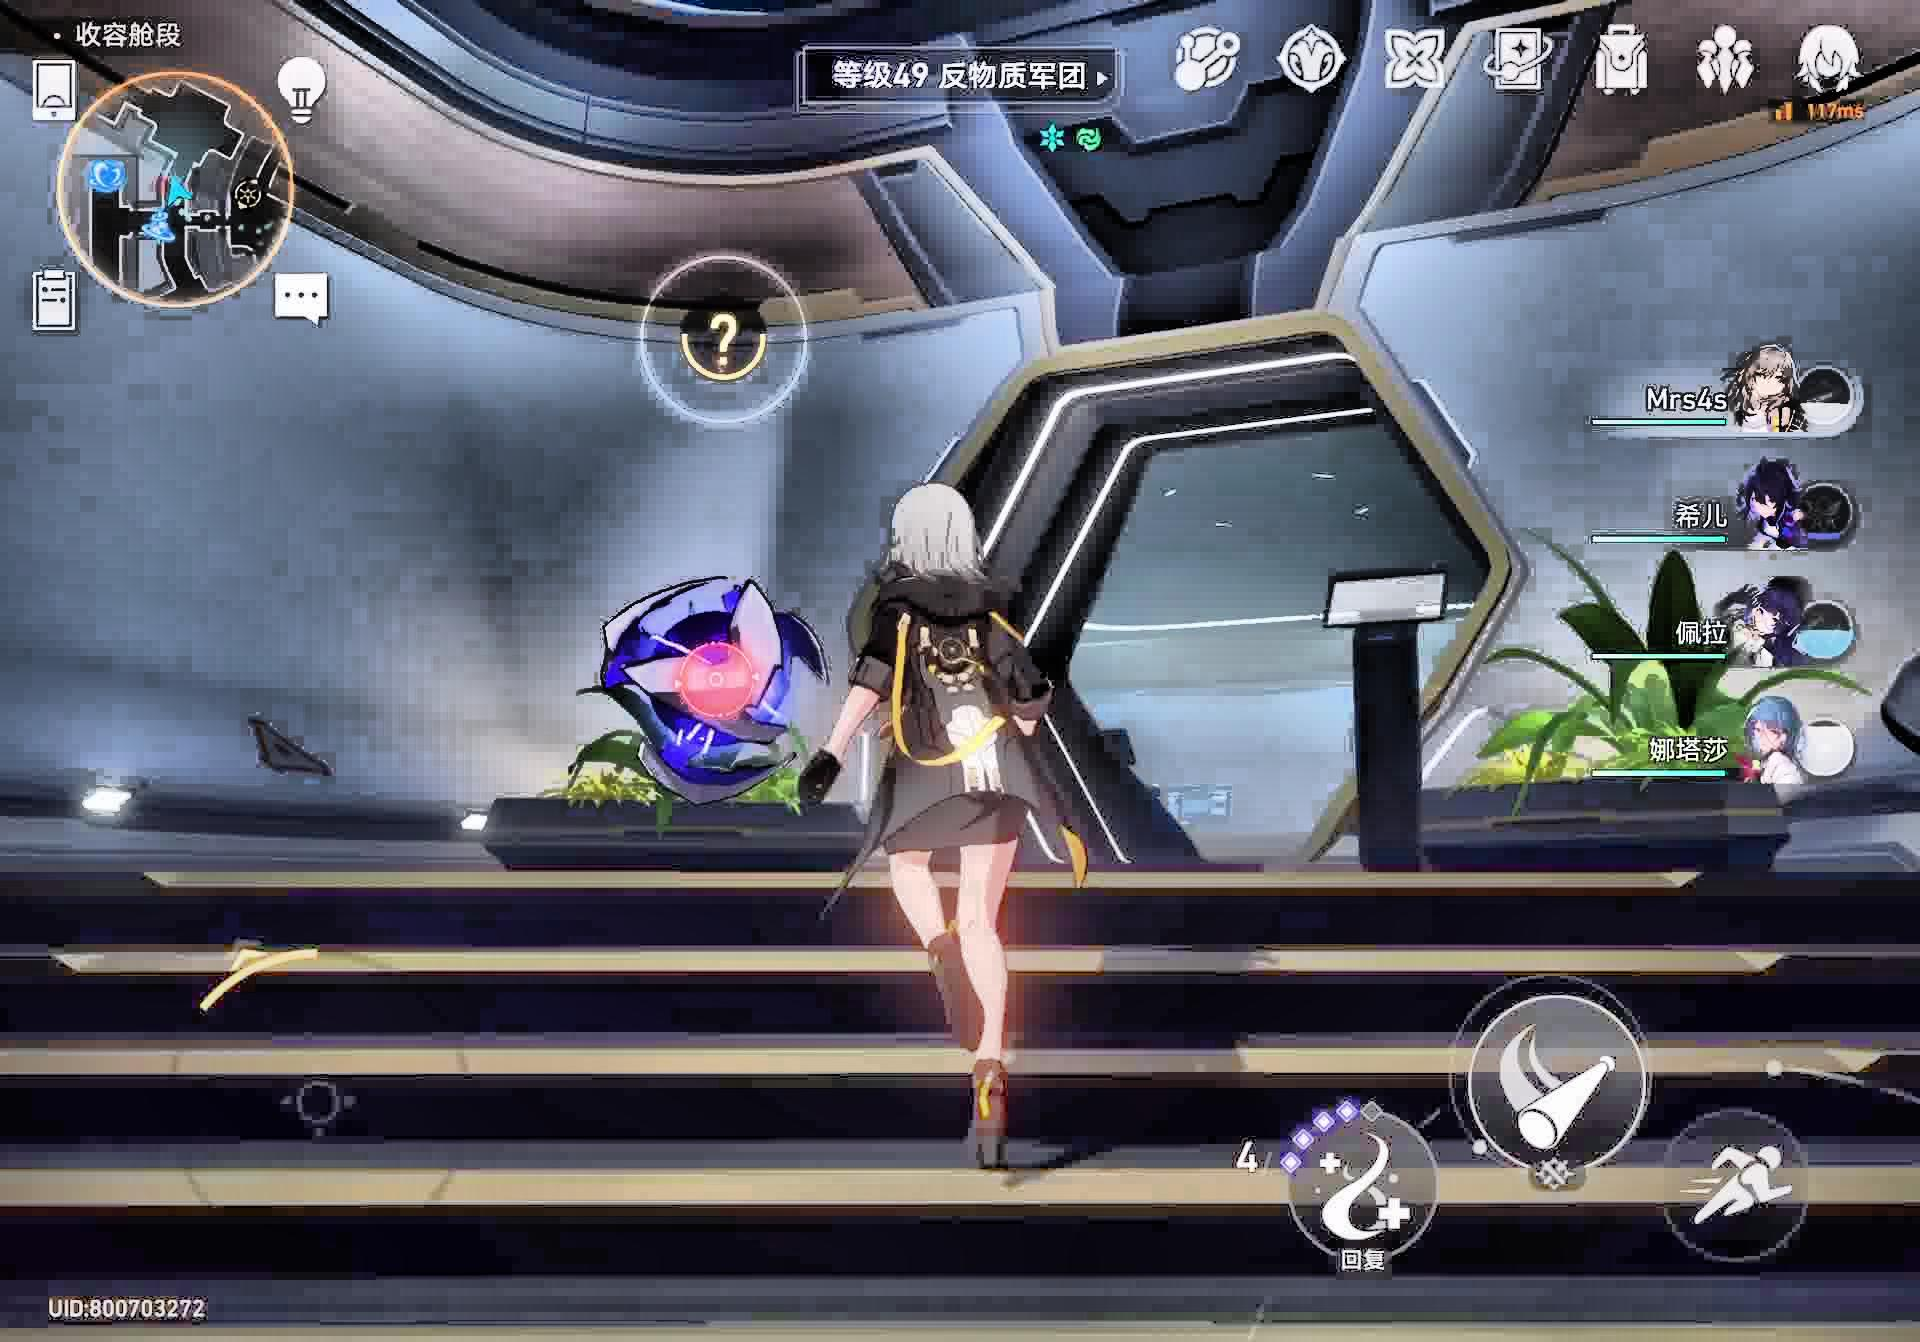Enemy: (582, 562, 821, 826)
Self: (797, 480, 1102, 1176)
